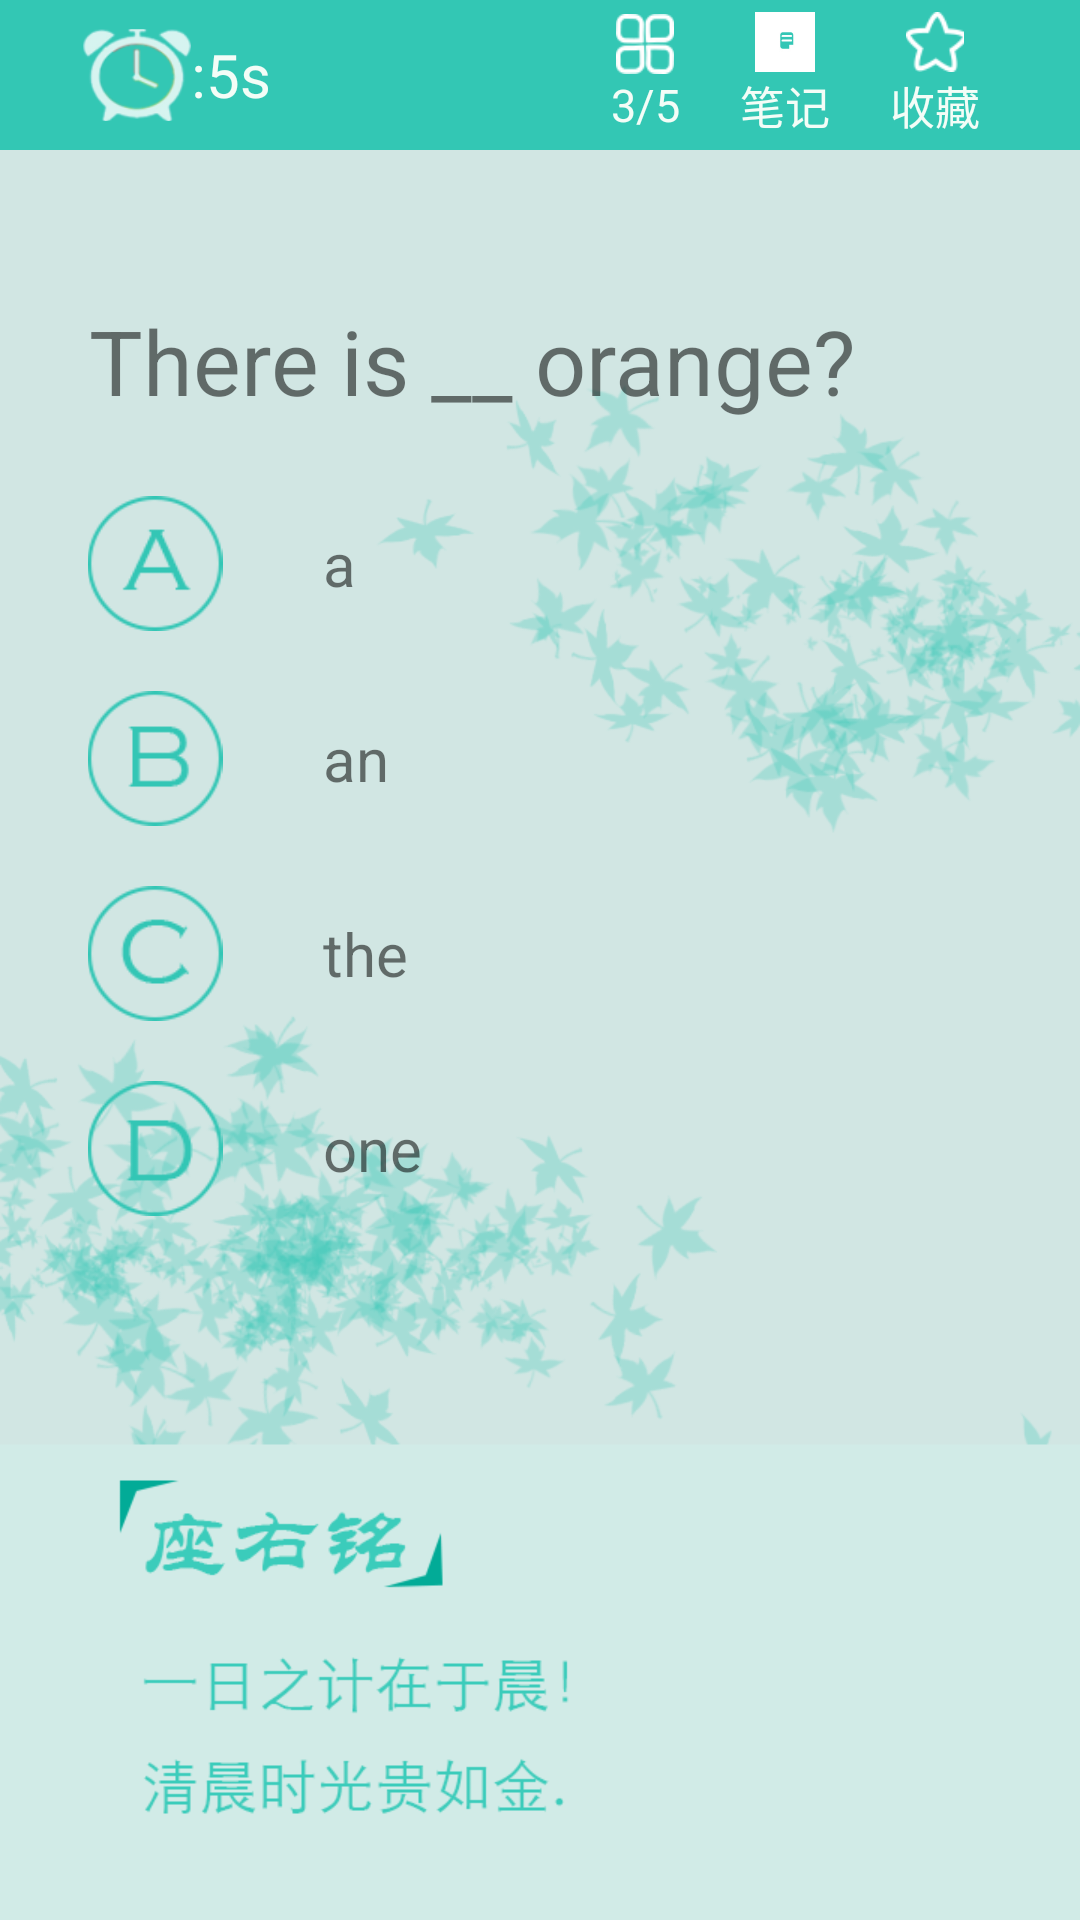

Locate icon controls on the screen. Image size 1080px×1920px, boxes as (x1,y1,x2,y2).
clock: (83,29,191,121)
star: (906,12,964,72)
wordlist: (755,12,815,72)
